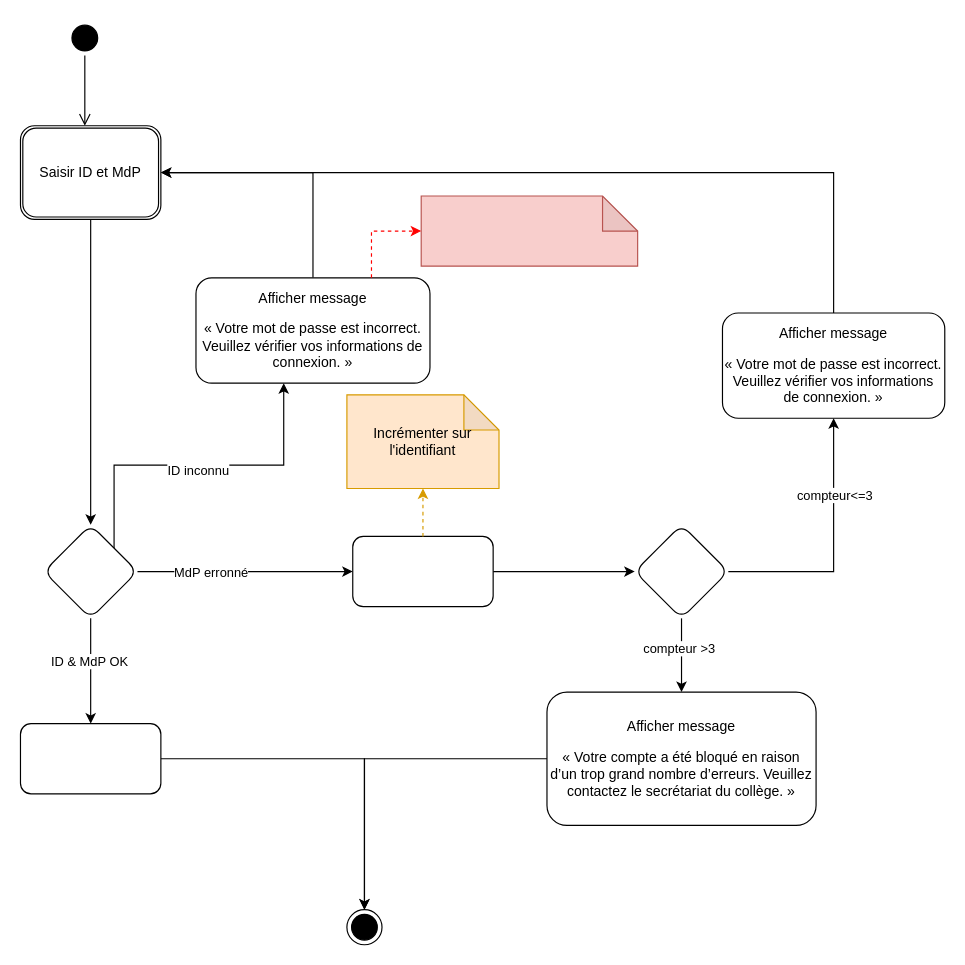
This 965x965 diagram has some shape labels left out. Each missing label, with the centre of its shape:
Afficher page d'accueil: pixel 90 758
Compteur connections erronées +1: pixel 422 571
Signaler que ce message est une faille de sécurité: pixel 529 230
